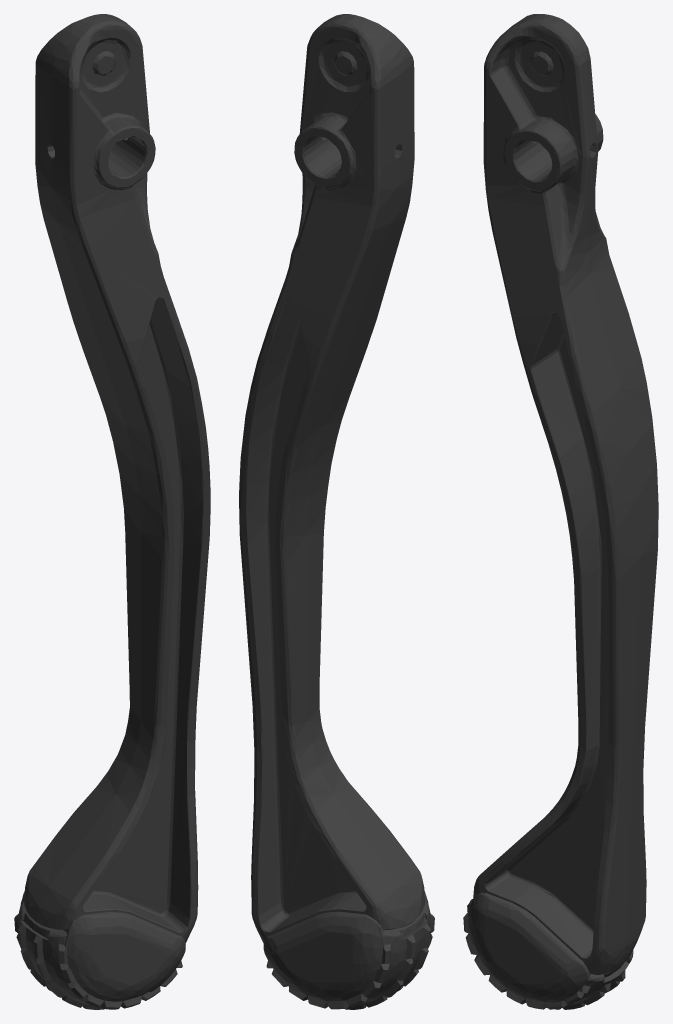
Rendered from rear_left_lower_leg.dae.
3 renders of one model, left to right at view 1: azimuth 30°, elevation 25°; view 2: azimuth 150°, elevation 25°; view 3: azimuth 330°, elevation 25°, orthographic.
Parts seen in each view (by area): view 1: rear_left_lower_leg; view 2: rear_left_lower_leg; view 3: rear_left_lower_leg.
Part boxes in pixels (box(x1,y1,x2,y2)): rear_left_lower_leg: box(14, 14, 210, 1009); rear_left_lower_leg: box(239, 14, 434, 1009); rear_left_lower_leg: box(463, 14, 658, 1009).
Bounding box in the file's own units: 0.0746 × 0.046 × 0.4249.
